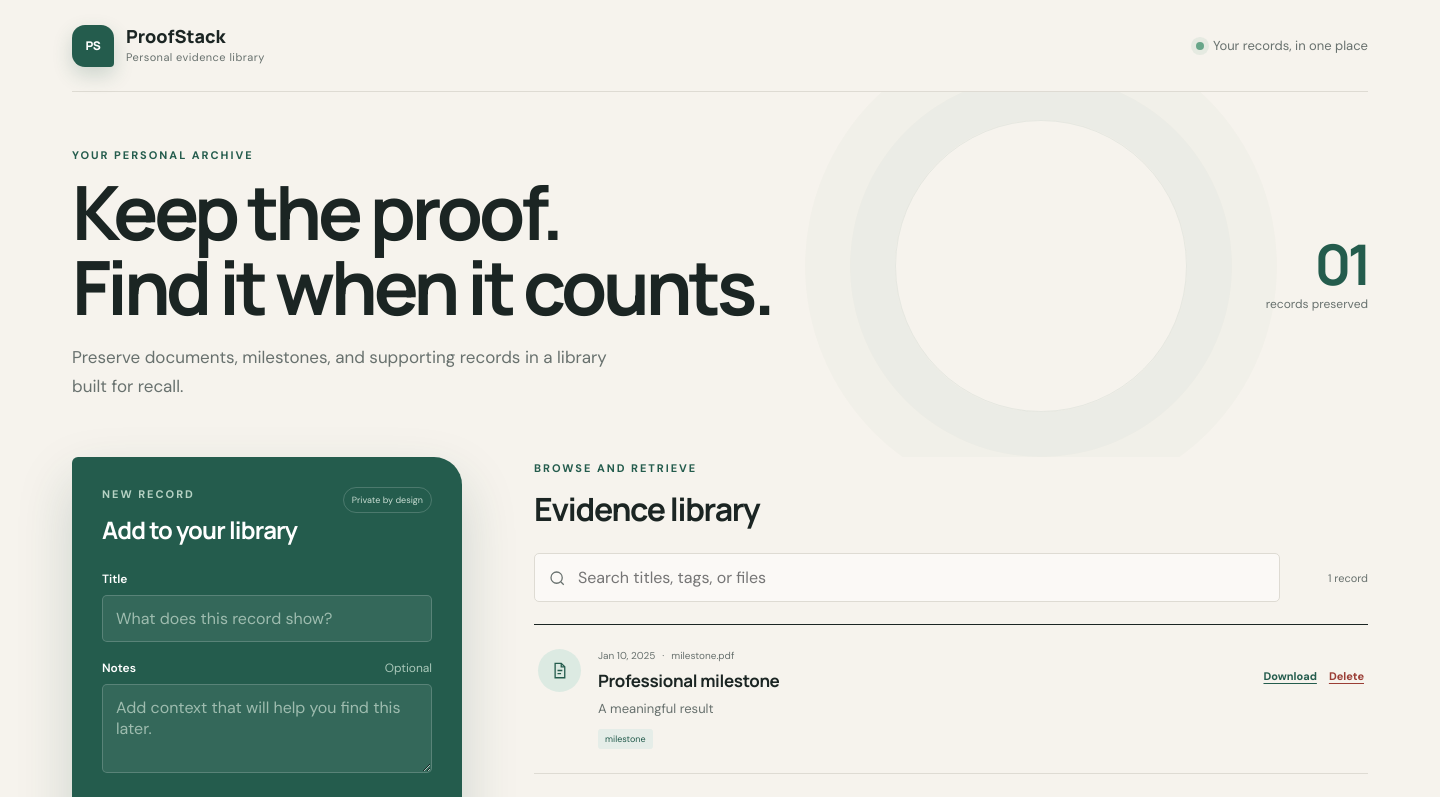
it: App evidence flows › deletes only after visible confirmation
The image size is (1440, 797).
expect the heading "Professional milestone" is shown: met, box left=598, top=669, right=780, bottom=692
Click the button "Delete".
click(1346, 676)  # box left=1329, top=669, right=1364, bottom=683
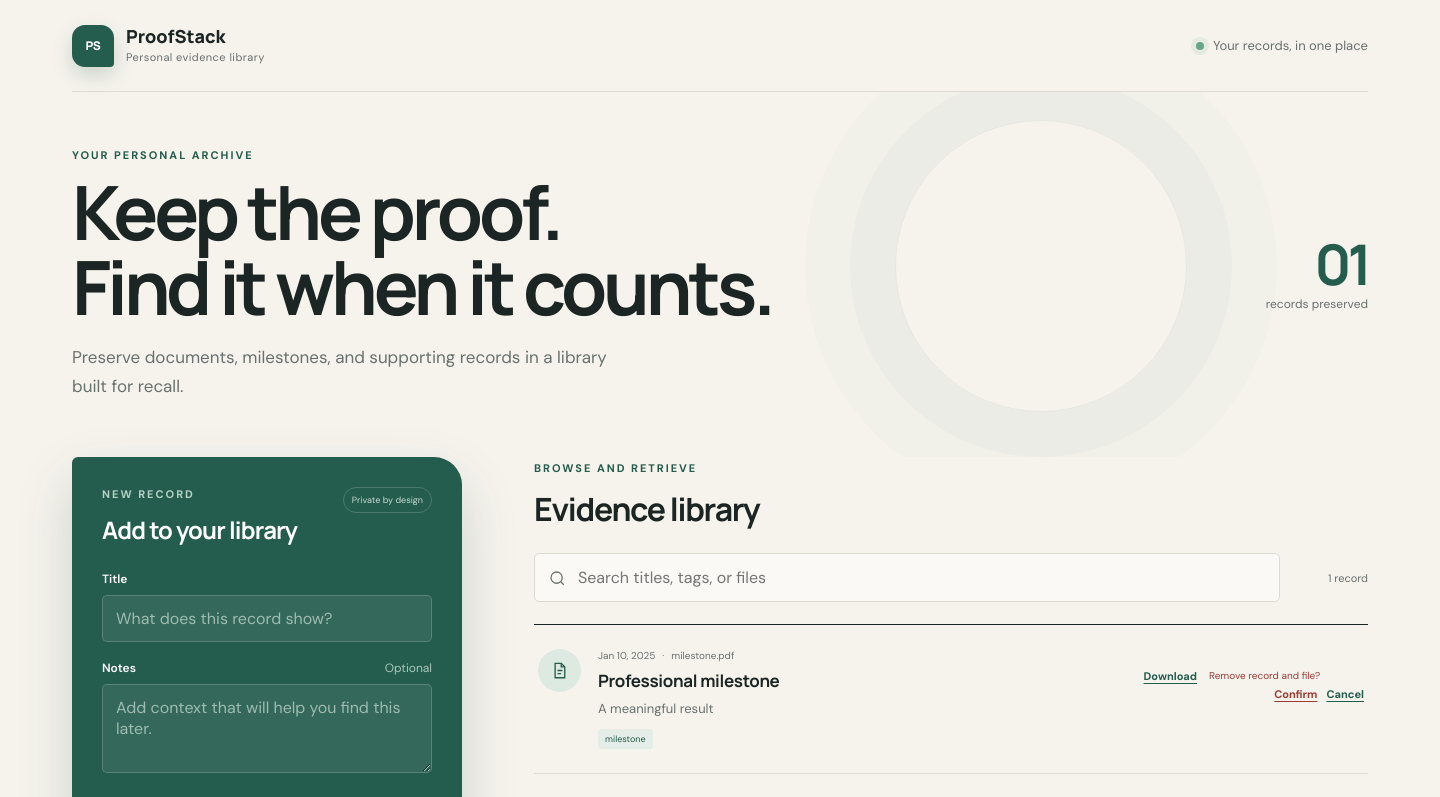
Click the button "Confirm".
click(1296, 694)  # box left=1274, top=687, right=1317, bottom=701
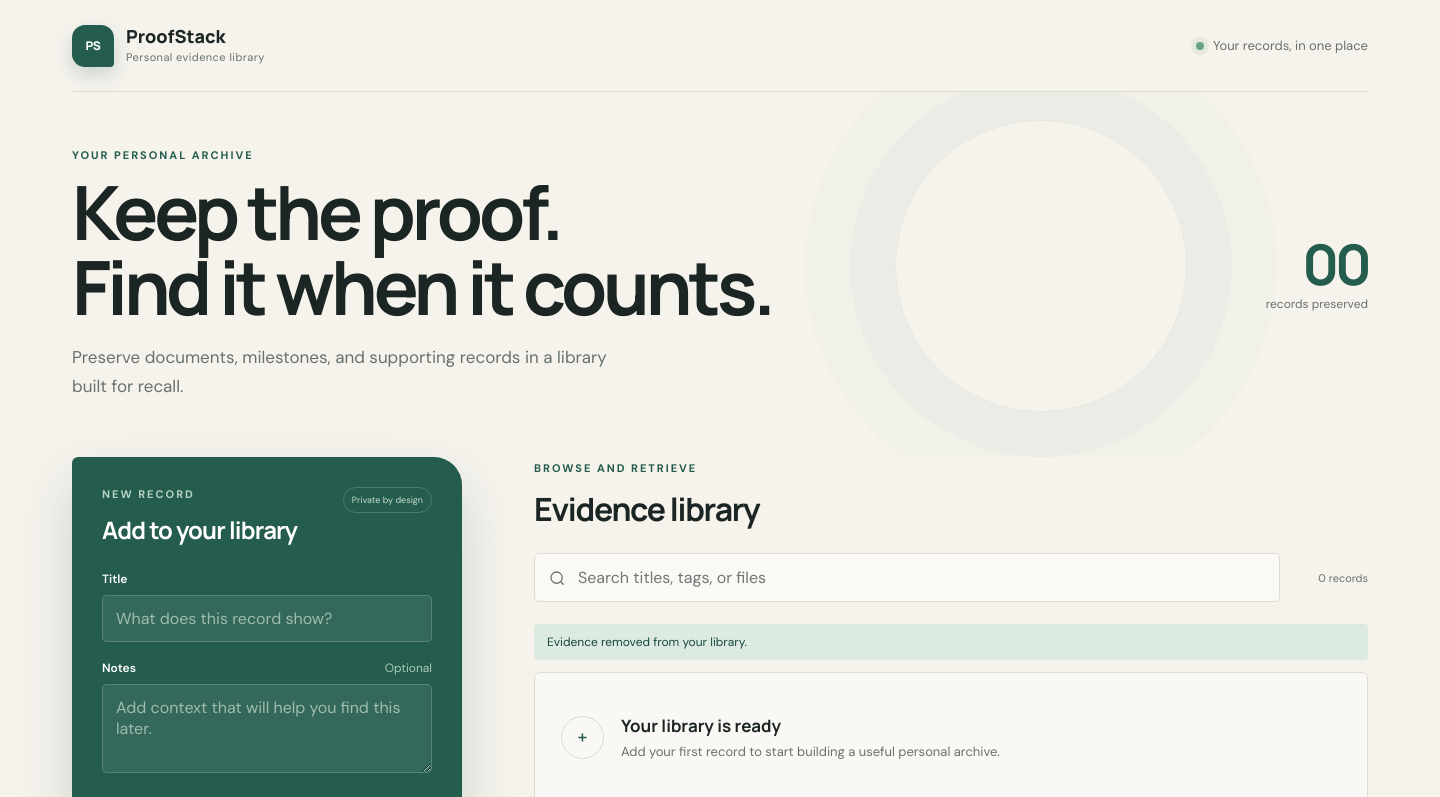
expect the message shows "Evidence removed": met, box left=547, top=634, right=747, bottom=650
expect the heading "Professional milestone" is gone: met
